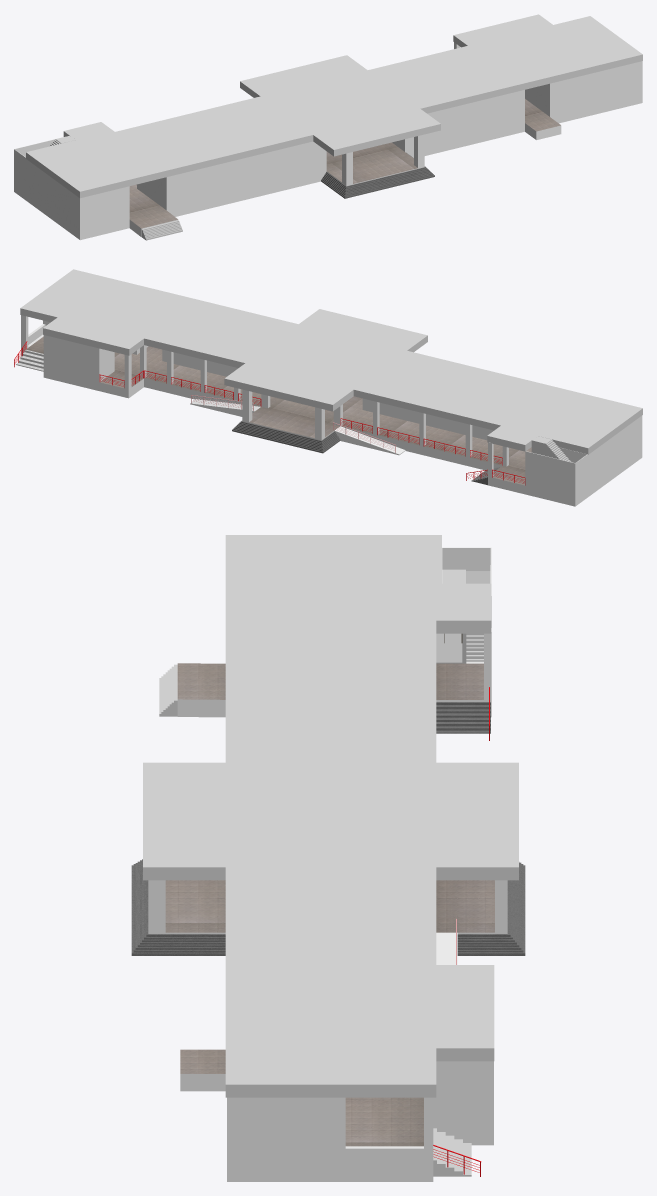
Rendered from MAPLON.fbx.
The picture shows the model from 3 angles, top to bottom: view 1: azimuth 30°, elevation 25°; view 2: azimuth 150°, elevation 25°; view 3: azimuth 270°, elevation 25°; orthographic projection. The views are drawn at different scales.
Visible parts, largest first — view 1: Cube.018, Cube.007, Cube.011, Cube.019; view 2: Cube.018, Cube.007, Cube.010, Cube.013, Cube.017, Cube.009, Cube.012; view 3: Cube.018, Cube.007, Cube.011, Cube.010, Cube.008, Cube.009, Cube.001, Cube.019.
Boxes of the visible parts, x1,y1,x2,y2 form: Cube.018: (26, 14, 642, 198); Cube.007: (14, 42, 642, 240); Cube.011: (321, 152, 434, 198); Cube.019: (141, 220, 182, 240); Cube.018: (20, 269, 642, 454); Cube.007: (21, 315, 642, 506); Cube.010: (232, 412, 340, 453); Cube.013: (100, 373, 524, 483); Cube.017: (531, 436, 571, 462); Cube.009: (16, 350, 43, 371); Cube.012: (99, 370, 524, 477); Cube.018: (143, 535, 518, 1097); Cube.007: (148, 547, 507, 1181); Cube.011: (131, 859, 225, 955); Cube.010: (457, 862, 525, 955); Cube.008: (436, 702, 490, 733); Cube.009: (433, 1128, 471, 1176); Cube.001: (436, 571, 490, 663); Cube.019: (159, 664, 177, 716).
Bounding box in the file's own units: 16762 × 1423 × 5079.
